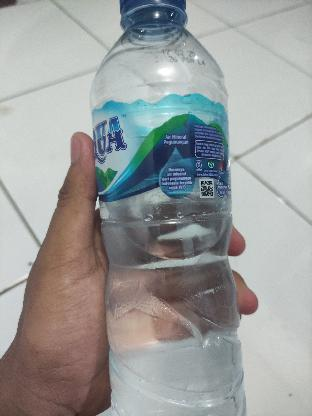Plastic Bottle: (82, 0, 264, 416)
